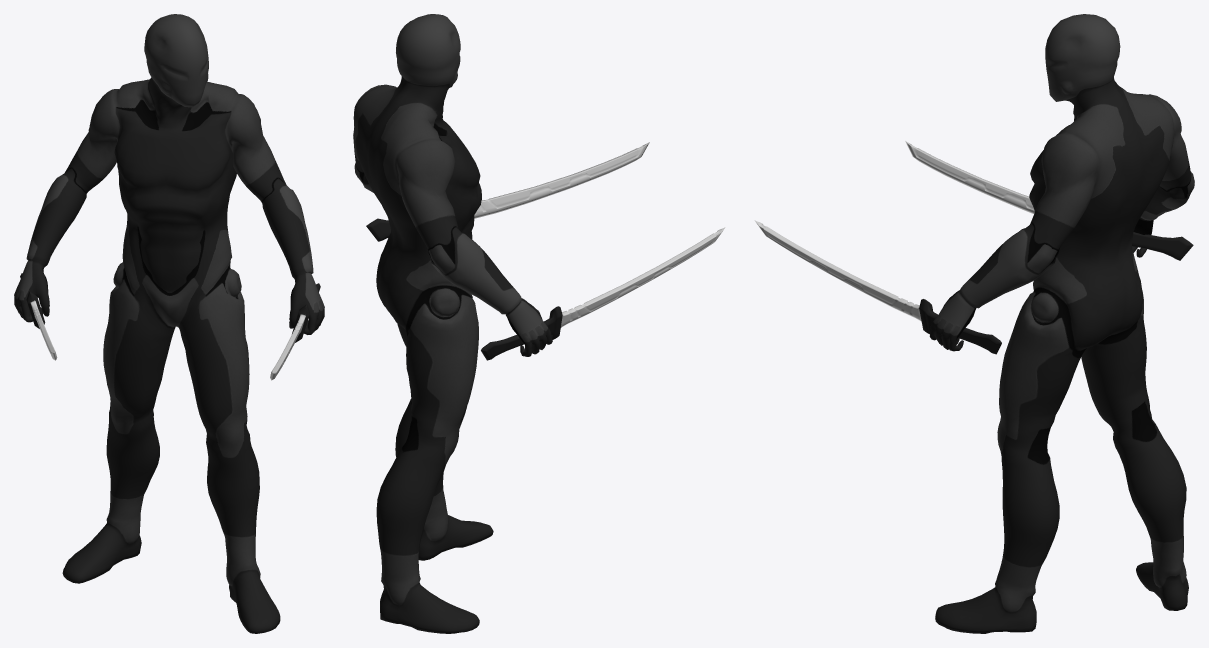
The picture shows the model from 3 angles, left to right: view 1: azimuth 30°, elevation 25°; view 2: azimuth 150°, elevation 25°; view 3: azimuth 270°, elevation 25°; orthographic projection. The views are drawn at different scales.
Visible parts, largest first — view 1: Cyborg_Ninja_Killer, Sword_l, Sword_l001; view 2: Cyborg_Ninja_Killer, Sword_l001, Sword_l; view 3: Cyborg_Ninja_Killer, Sword_l, Sword_l001.
Boxes of the visible parts, x1=… form: Cyborg_Ninja_Killer: x1=14, y1=14, x2=324, y2=633; Sword_l: x1=270, y1=283, x2=320, y2=380; Sword_l001: x1=20, y1=273, x2=57, y2=360; Cyborg_Ninja_Killer: x1=353, y1=14, x2=552, y2=633; Sword_l001: x1=481, y1=227, x2=725, y2=360; Sword_l: x1=366, y1=142, x2=649, y2=241; Cyborg_Ninja_Killer: x1=929, y1=14, x2=1194, y2=633; Sword_l: x1=754, y1=220, x2=1001, y2=354; Sword_l001: x1=905, y1=141, x2=1193, y2=260.
Size of the model in its own units: 105 by 182 by 123.
Materials: 2 (2 with a texture image).
